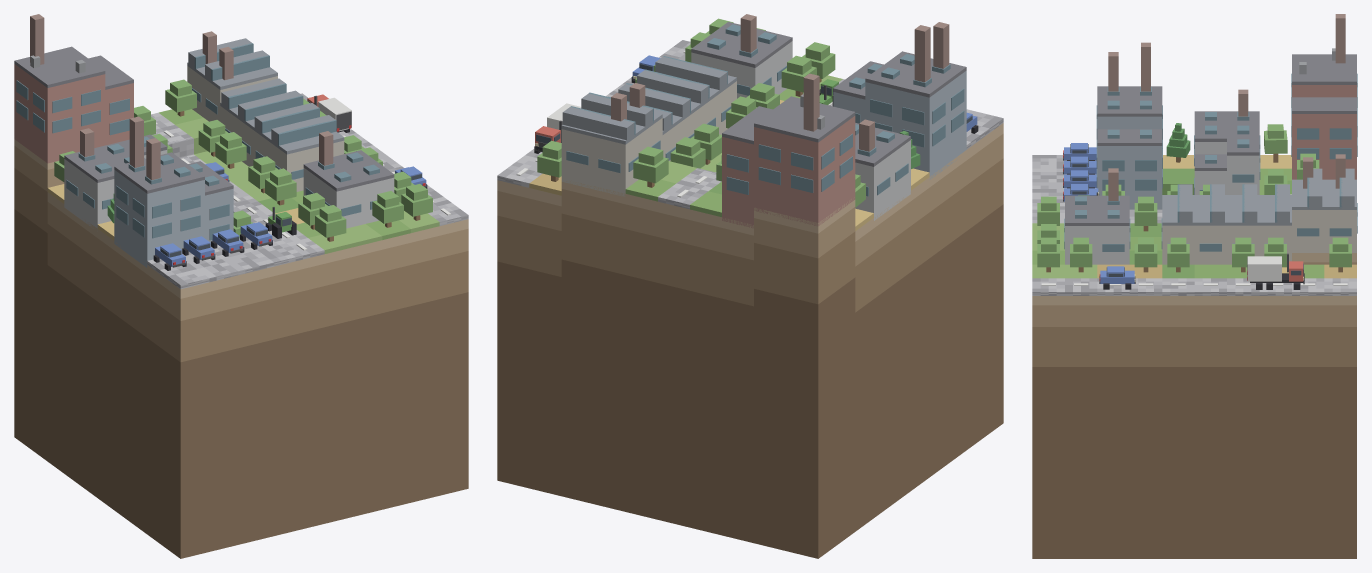
File: block_9_permeable_20.glb
The picture shows the model from 3 angles, left to right: view 1: azimuth 30°, elevation 25°; view 2: azimuth 150°, elevation 25°; view 3: azimuth 270°, elevation 25°; orthographic projection. The views are drawn at different scales.
Parts seen in each view (by area): view 1: Patch_LowerLeft_b09_PP, Factories_LowerLeft_b09_PP, Ground_LowerLeft_b09_PP, Roads_LowerLeft_b09_PP, Parking_LowerLeft_b09_PP, Asset_Truck.001_PP, Asset_Tree_Round.022_PP, Asset_Tree_Round.001_PP, Asset_Tree_Round.007_PP, Asset_Tree_Round.013_PP, Asset_Tree_Round.021_PP, Asset_Tree_Round.023_PP (+8 smaller); view 2: Patch_LowerLeft_b09_PP, Factories_LowerLeft_b09_PP, Ground_LowerLeft_b09_PP, Roads_LowerLeft_b09_PP, Asset_Tree_Round.001_PP, Asset_Tree_Round.017_PP, Asset_Tree_Round.005_PP, Asset_Truck.001_PP, Asset_Tree_Round.002_PP, Asset_Tree_Round.021_PP, Asset_Tree_Round.007_PP, Parking_LowerLeft_b09_PP; view 3: Patch_LowerLeft_b09_PP, Factories_LowerLeft_b09_PP, Ground_LowerLeft_b09_PP, Roads_LowerLeft_b09_PP, Asset_Truck.001_PP, Parking_LowerLeft_b09_PP, Asset_Tree_Round.020_PP, Asset_Tree_Round.014_PP, Asset_Tree_Round.013_PP, Asset_Tree_Round.002_PP, Asset_Tree_Round.012_PP, Asset_Tree_Round.018_PP (+11 smaller).
Boxes of the visible parts, x1=… form: Patch_LowerLeft_b09_PP: x1=14, y1=139, x2=468, y2=558; Factories_LowerLeft_b09_PP: x1=14, y1=14, x2=394, y2=267; Ground_LowerLeft_b09_PP: x1=47, y1=109, x2=439, y2=253; Roads_LowerLeft_b09_PP: x1=151, y1=93, x2=468, y2=260; Parking_LowerLeft_b09_PP: x1=147, y1=237, x2=295, y2=289; Asset_Truck.001_PP: x1=307, y1=94, x2=351, y2=132; Asset_Tree_Round.022_PP: x1=372, y1=191, x2=403, y2=227; Asset_Tree_Round.001_PP: x1=165, y1=79, x2=196, y2=116; Asset_Tree_Round.007_PP: x1=215, y1=132, x2=246, y2=168; Asset_Tree_Round.013_PP: x1=265, y1=168, x2=296, y2=205; Asset_Tree_Round.021_PP: x1=315, y1=205, x2=346, y2=241; Asset_Tree_Round.023_PP: x1=401, y1=184, x2=432, y2=220; Patch_LowerLeft_b09_PP: x1=497, y1=123, x2=1003, y2=558; Factories_LowerLeft_b09_PP: x1=561, y1=14, x2=966, y2=228; Ground_LowerLeft_b09_PP: x1=529, y1=75, x2=929, y2=230; Roads_LowerLeft_b09_PP: x1=497, y1=40, x2=844, y2=209; Asset_Tree_Round.001_PP: x1=633, y1=146, x2=668, y2=187; Asset_Tree_Round.017_PP: x1=781, y1=55, x2=816, y2=96; Asset_Tree_Round.005_PP: x1=670, y1=137, x2=705, y2=168; Asset_Truck.001_PP: x1=534, y1=103, x2=581, y2=153; Asset_Tree_Round.002_PP: x1=537, y1=140, x2=561, y2=181; Asset_Tree_Round.021_PP: x1=802, y1=42, x2=835, y2=82; Asset_Tree_Round.007_PP: x1=691, y1=123, x2=721, y2=164; Parking_LowerLeft_b09_PP: x1=966, y1=109, x2=1003, y2=149; Patch_LowerLeft_b09_PP: x1=1032, y1=253, x2=1356, y2=558; Factories_LowerLeft_b09_PP: x1=1064, y1=14, x2=1357, y2=264; Ground_LowerLeft_b09_PP: x1=1032, y1=155, x2=1356, y2=278; Roads_LowerLeft_b09_PP: x1=1032, y1=194, x2=1356, y2=295; Asset_Truck.001_PP: x1=1247, y1=253, x2=1304, y2=289; Parking_LowerLeft_b09_PP: x1=1032, y1=155, x2=1096, y2=209; Asset_Tree_Round.020_PP: x1=1264, y1=124, x2=1287, y2=162; Asset_Tree_Round.014_PP: x1=1134, y1=237, x2=1157, y2=272; Asset_Tree_Round.013_PP: x1=1134, y1=196, x2=1157, y2=231; Asset_Tree_Round.002_PP: x1=1329, y1=237, x2=1351, y2=272; Asset_Tree_Round.012_PP: x1=1167, y1=237, x2=1189, y2=272; Asset_Tree_Round.018_PP: x1=1070, y1=237, x2=1092, y2=272.
Size of the model in its own units: 9.52 by 13.33 by 9.52.
